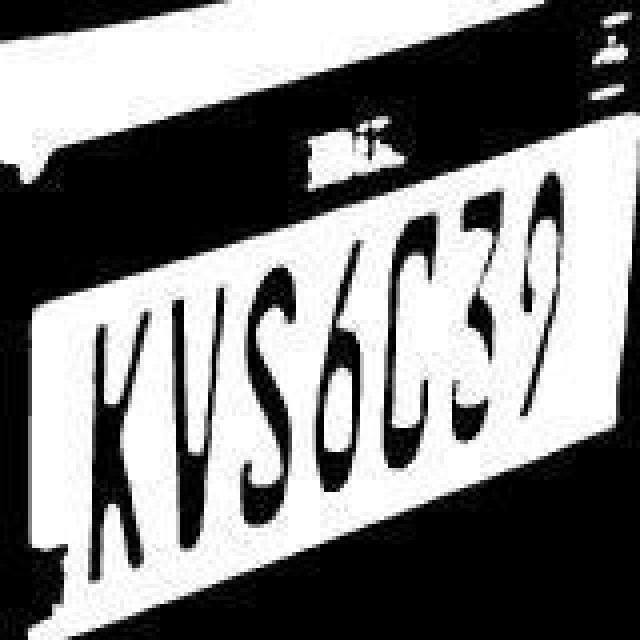3: (446, 176, 506, 448)
6: (316, 218, 372, 502)
9: (514, 156, 574, 428)
C: (378, 202, 438, 478)
K: (90, 296, 150, 592)
S: (230, 254, 314, 530)
V: (160, 276, 232, 556)
